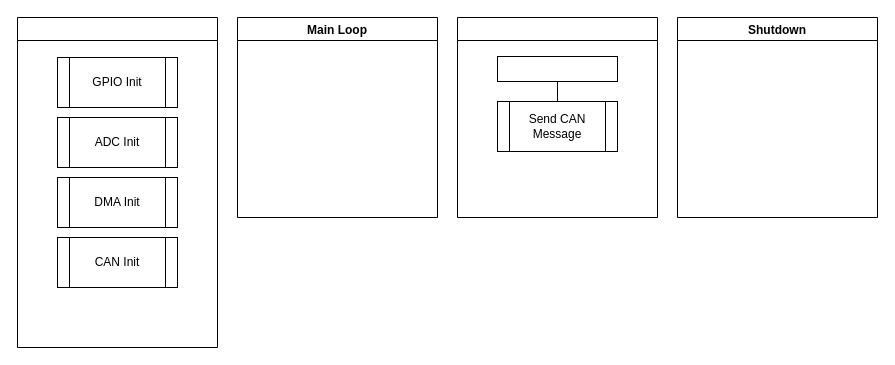
Some shapes in this 895 by 365 pixel diagram are drawn without their labels. Each missing label, with the box of its shape:
1MicroSecond Timer: (496, 56, 618, 82)
Interups: (456, 16, 658, 218)
Start Up: (16, 16, 218, 348)
